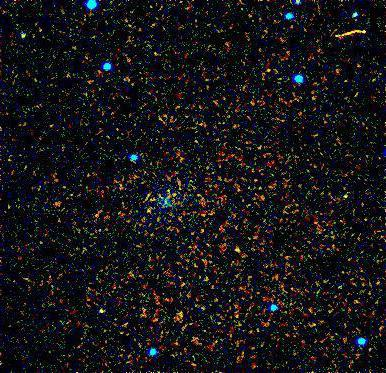star: (85, 299, 115, 329)
